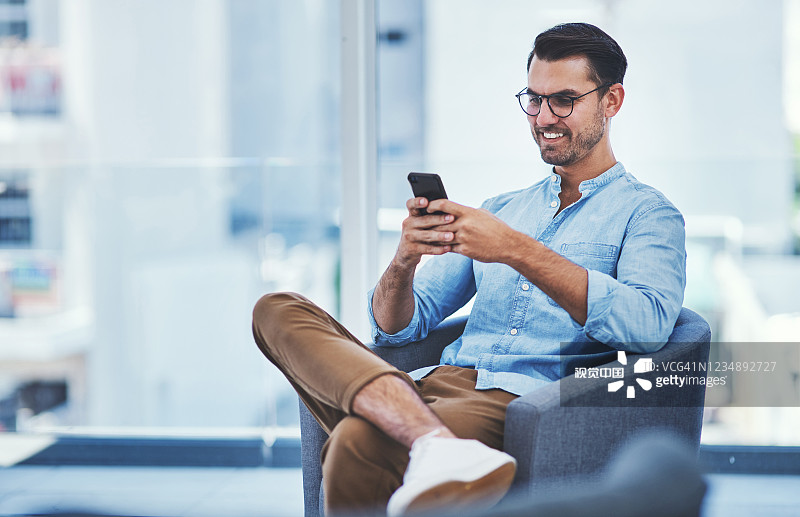reading: (372, 167, 530, 280)
